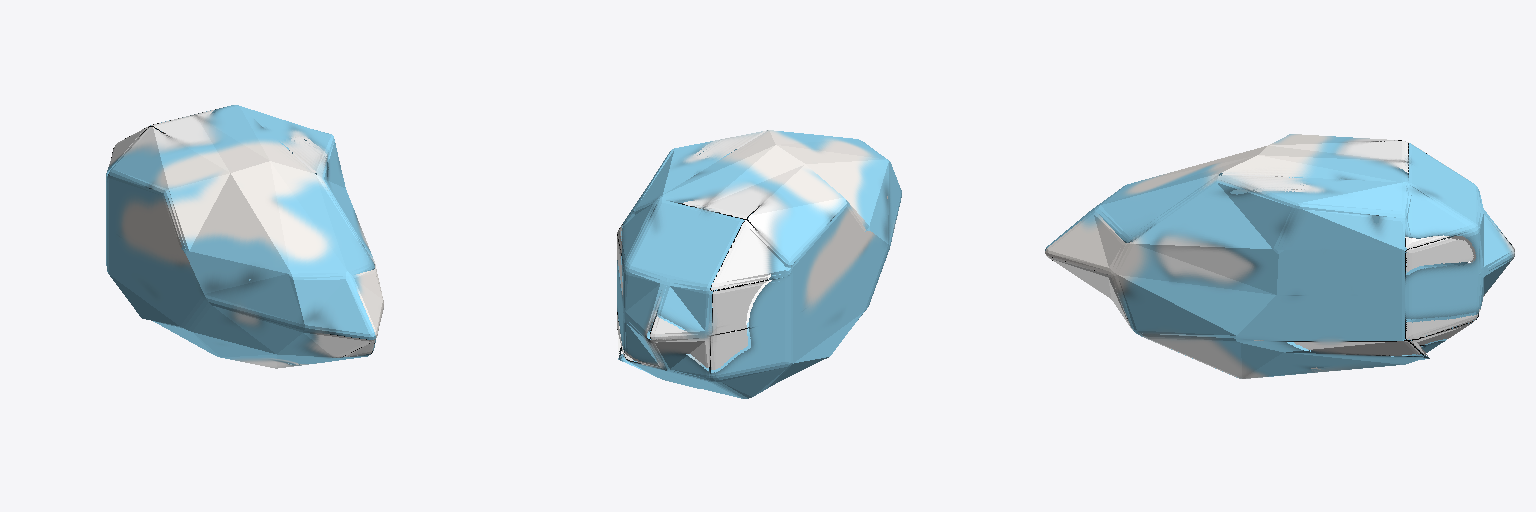
3 views of the same model, side by side, from view 1: azimuth 30°, elevation 25°; view 2: azimuth 150°, elevation 25°; view 3: azimuth 270°, elevation 25° (orthographic).
Parts seen in each view (by area): view 1: 立方体; view 2: 立方体; view 3: 立方体.
Part boxes in pixels (bbox=[...]): 立方体: bbox=[106, 105, 383, 368]; 立方体: bbox=[617, 130, 901, 398]; 立方体: bbox=[1045, 134, 1514, 378].
Bounding box in the file's own units: 2.02 × 2.24 × 4.68.
1 materials, 1 textured.